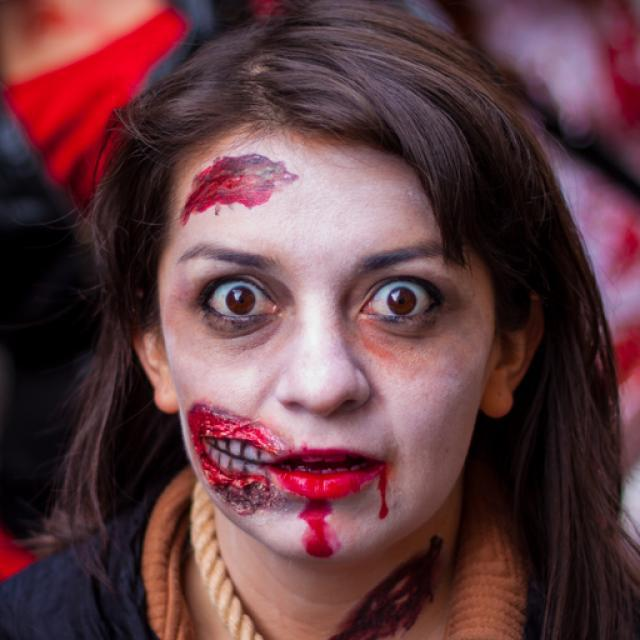surprise: (155, 128, 493, 564)
